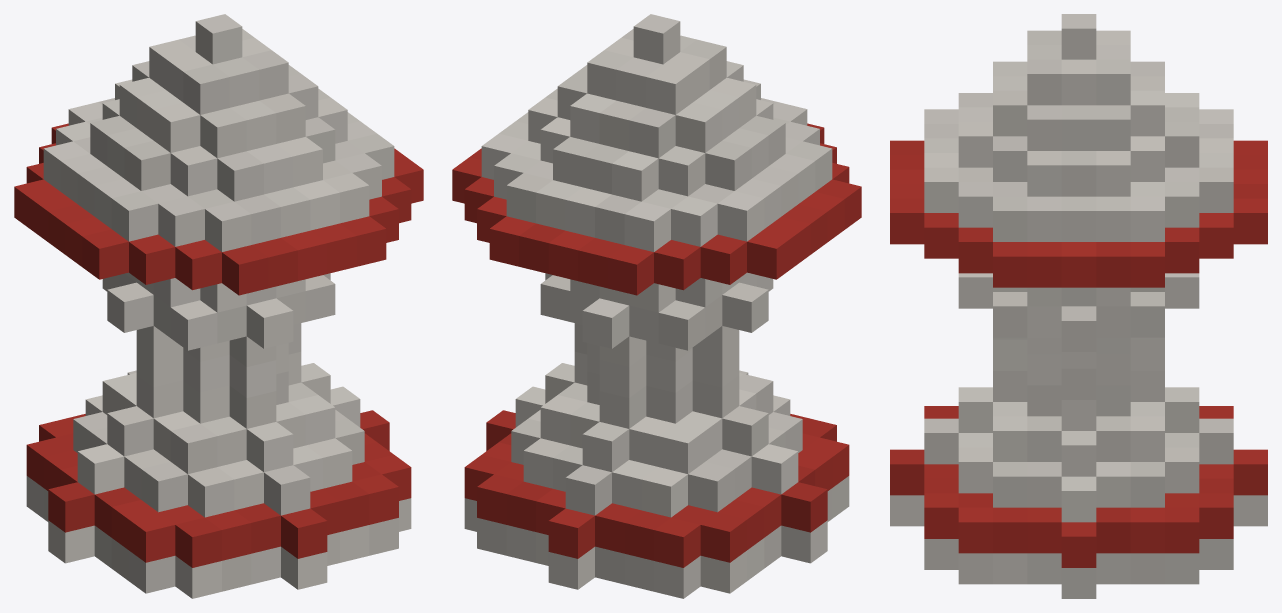
Rendered from white_pawn.glb.
3 renders of one model, left to right at view 1: azimuth 30°, elevation 25°; view 2: azimuth 150°, elevation 25°; view 3: azimuth 270°, elevation 25°, orthographic.
Bounding box in the file's own units: 1.1 × 1.6 × 1.1.
